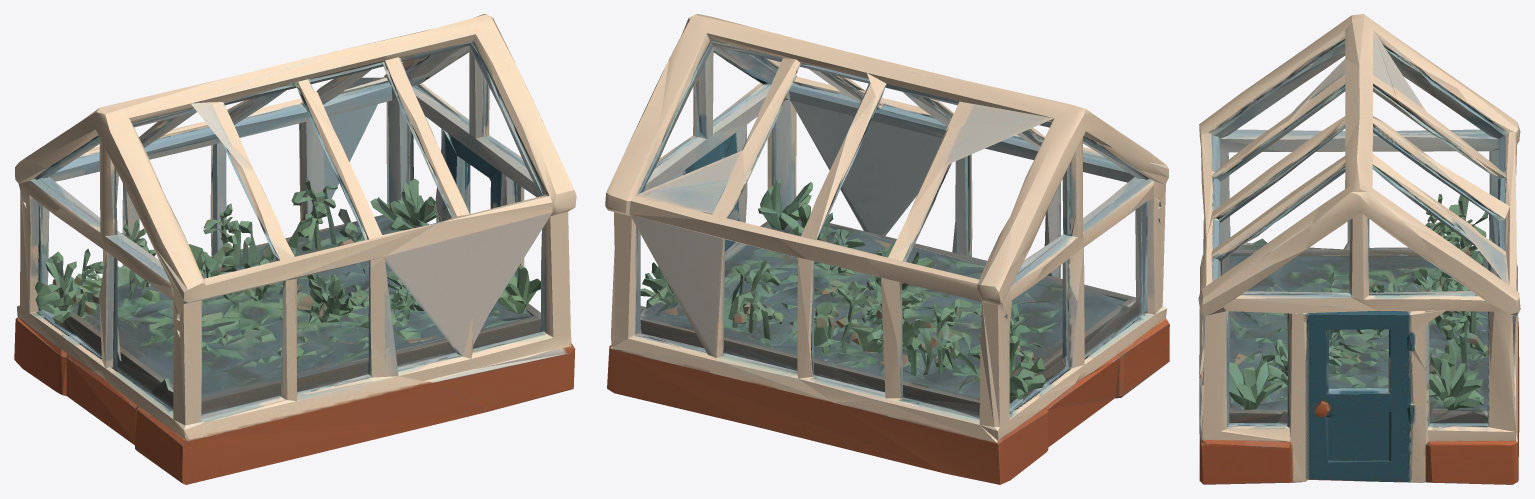
Rendered from greenhouse.glb.
3 renders of one model, left to right at view 1: azimuth 30°, elevation 25°; view 2: azimuth 150°, elevation 25°; view 3: azimuth 270°, elevation 25°, orthographic. The views are drawn at different scales.
Visible parts, largest first — view 1: Mesh_0; view 2: Mesh_0; view 3: Mesh_0.
Boxes of the visible parts, <box> form: Mesh_0: <box>14,14,576,484</box>; Mesh_0: <box>605,14,1169,484</box>; Mesh_0: <box>1198,14,1520,484</box>.
Size of the model in its own units: 3.2 by 2.37 by 2.34.
Materials: 1 (1 with a texture image).
